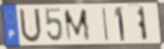1: (136, 5, 150, 43), (113, 6, 127, 43)
5: (44, 6, 65, 44)
I: (102, 7, 110, 43)
M: (63, 8, 92, 43)
U: (18, 7, 44, 45)
